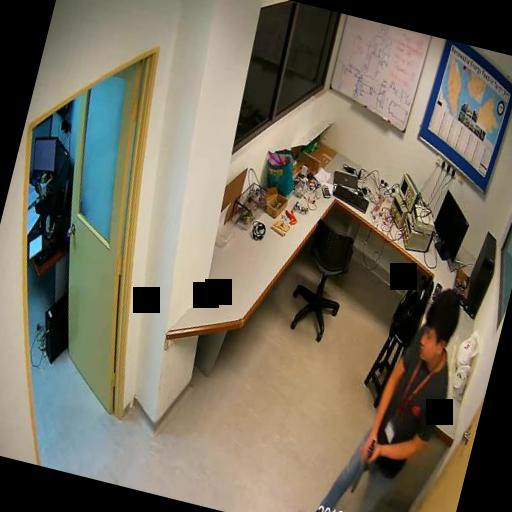Handgun: (347, 432, 378, 497)
